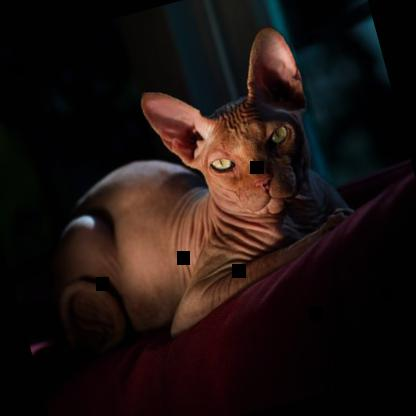cat: (0, 16, 373, 365)
